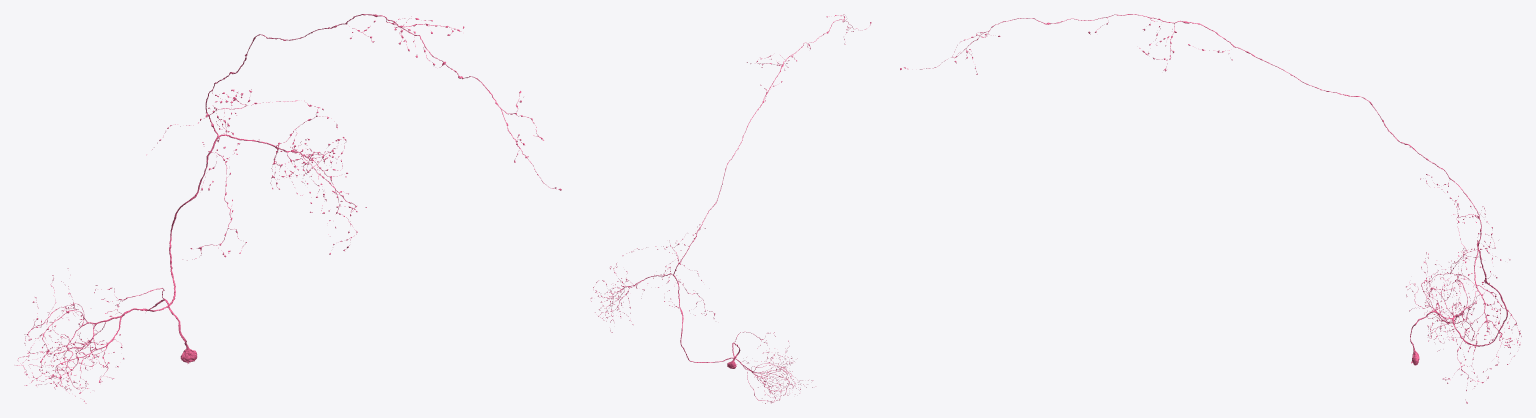
The model's file is VFB_jrmc30p2.glb.
3 views of the same model, side by side, from view 1: azimuth 30°, elevation 25°; view 2: azimuth 150°, elevation 25°; view 3: azimuth 270°, elevation 25° (orthographic). The views are drawn at different scales.
Parts seen in each view (by area): view 1: VFB_jrmc30p2; view 2: VFB_jrmc30p2; view 3: VFB_jrmc30p2.
Boxes of the visible parts, x1,y1,x2,y2 form: VFB_jrmc30p2: [15, 14, 561, 403]; VFB_jrmc30p2: [590, 14, 871, 403]; VFB_jrmc30p2: [900, 14, 1521, 403].
Bounding box in the file's own units: 0.2962 × 0.3621 × 0.5186.
